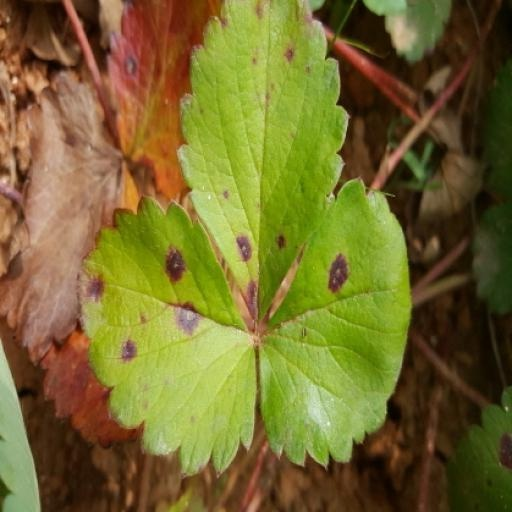Leaf Spot: (161, 186, 336, 511), (254, 31, 437, 318), (100, 38, 256, 336), (291, 293, 407, 511)
